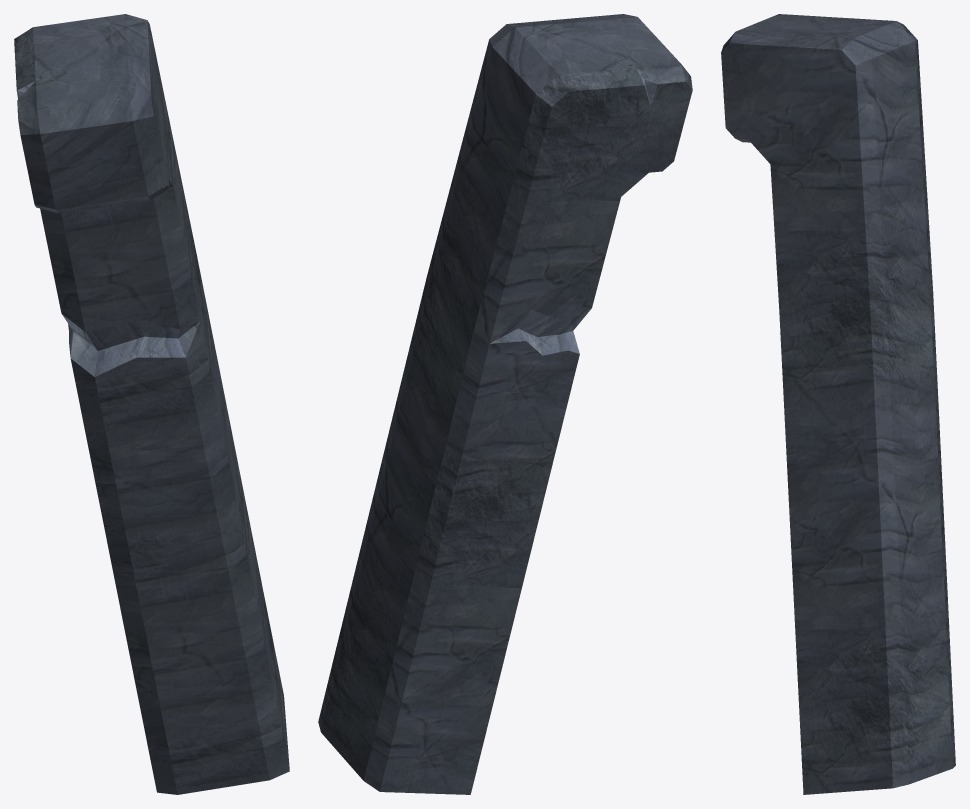
The model's file is s0_Str_Ruins_04_Art_01.glb.
3 renders of one model, left to right at view 1: azimuth 30°, elevation 25°; view 2: azimuth 150°, elevation 25°; view 3: azimuth 270°, elevation 25°, orthographic. The views are drawn at different scales.
Parts seen in each view (by area): view 1: node_Str_Ruins_04_Art; view 2: node_Str_Ruins_04_Art; view 3: node_Str_Ruins_04_Art.
Part boxes in pixels (<box>): node_Str_Ruins_04_Art: <box>14,14,289,794</box>; node_Str_Ruins_04_Art: <box>318,14,692,794</box>; node_Str_Ruins_04_Art: <box>721,14,955,794</box>.
Size of what is drawn, in the model's own units: 4.99 by 11.67 by 3.47.
Materials: 2 (2 with a texture image).
